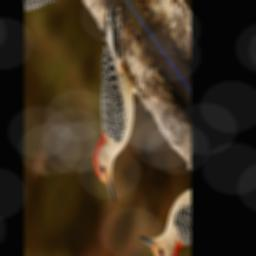Woodpecker: (45, 0, 176, 204)
